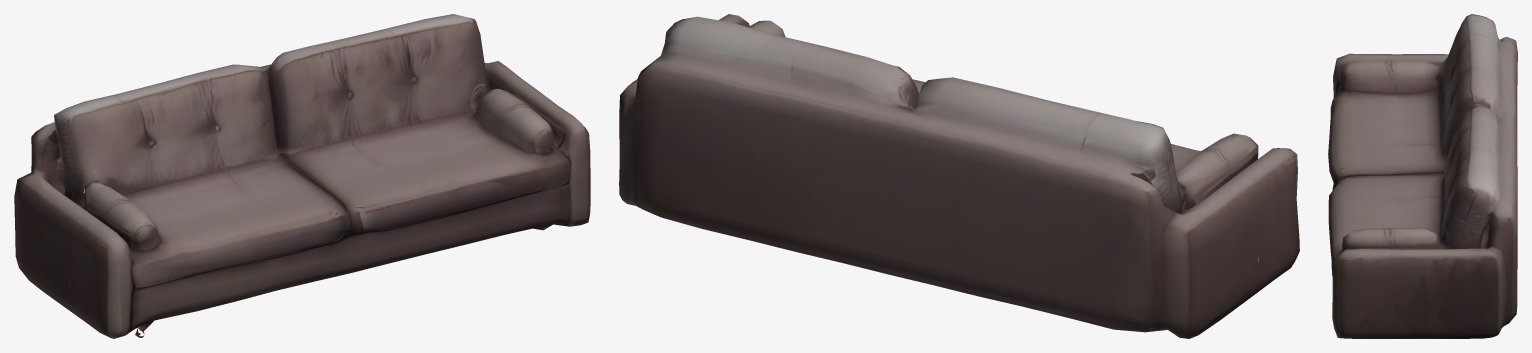
Rendered from sofa.glb.
3 renders of one model, left to right at view 1: azimuth 30°, elevation 25°; view 2: azimuth 150°, elevation 25°; view 3: azimuth 270°, elevation 25°, orthographic. The views are drawn at different scales.
Visible parts, largest first — view 1: tripo_node_803f454b; view 2: tripo_node_803f454b; view 3: tripo_node_803f454b.
Boxes of the visible parts, left/top/right/bottom form: tripo_node_803f454b: left=14, top=14, right=590, bottom=338; tripo_node_803f454b: left=619, top=14, right=1299, bottom=338; tripo_node_803f454b: left=1328, top=14, right=1517, bottom=338.
Size of the model in its own units: 0.999 by 0.3488 by 0.3901.
Materials: 1 (1 with a texture image).
